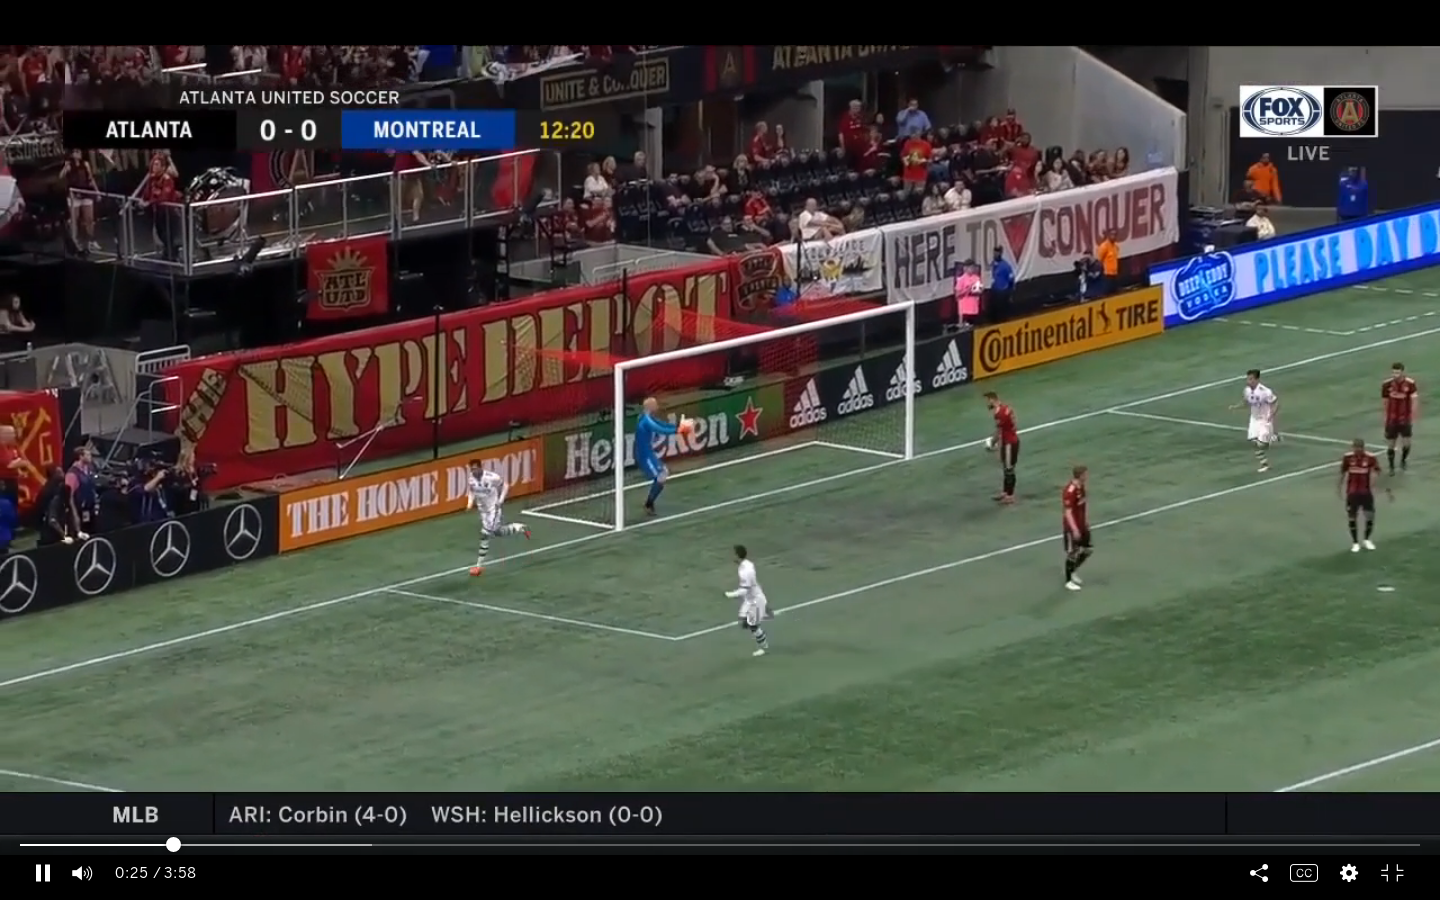soccer player: (461, 456, 532, 574), (724, 543, 785, 660), (1228, 363, 1290, 476), (633, 397, 685, 522), (1336, 436, 1384, 557), (1056, 463, 1098, 596), (985, 385, 1028, 499), (1381, 359, 1419, 476)
